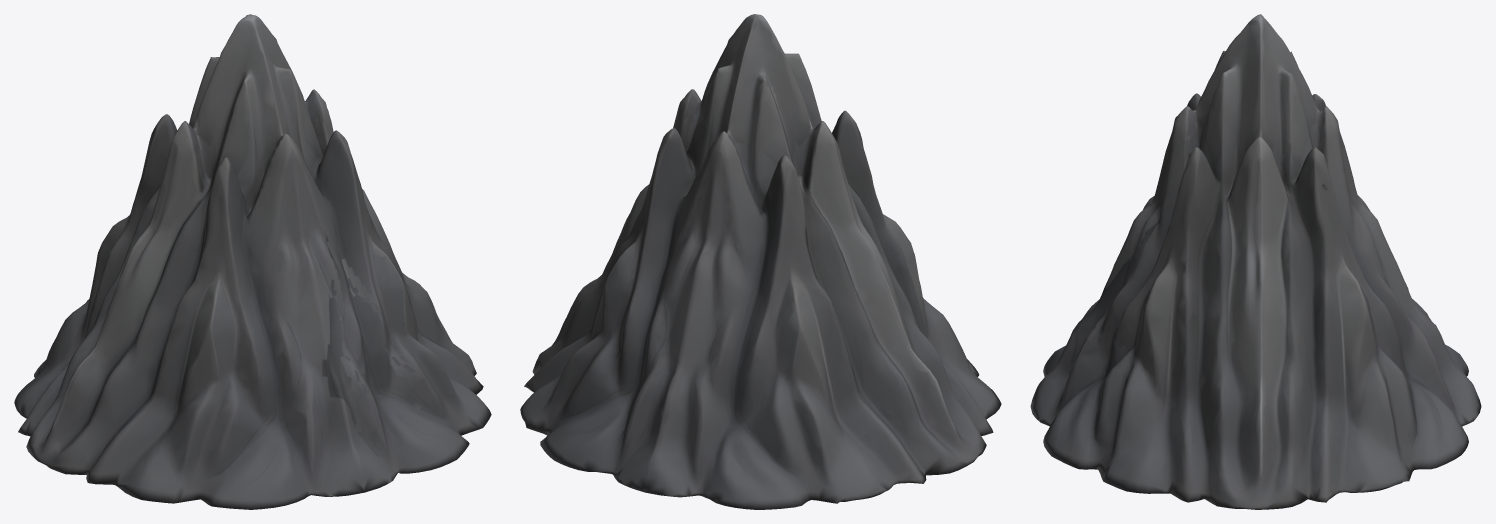
Rendered from Montanha Cinza.glb.
3 renders of one model, left to right at view 1: azimuth 30°, elevation 25°; view 2: azimuth 150°, elevation 25°; view 3: azimuth 270°, elevation 25°, orthographic.
Visible parts, largest first — view 1: model; view 2: model; view 3: model.
Part boxes in pixels (<box>): model: <box>14,14,491,509</box>; model: <box>520,14,1001,509</box>; model: <box>1030,14,1481,509</box>.
Bounding box in the file's own units: 1.9 × 1.67 × 1.75.
1 material, 1 textured.
